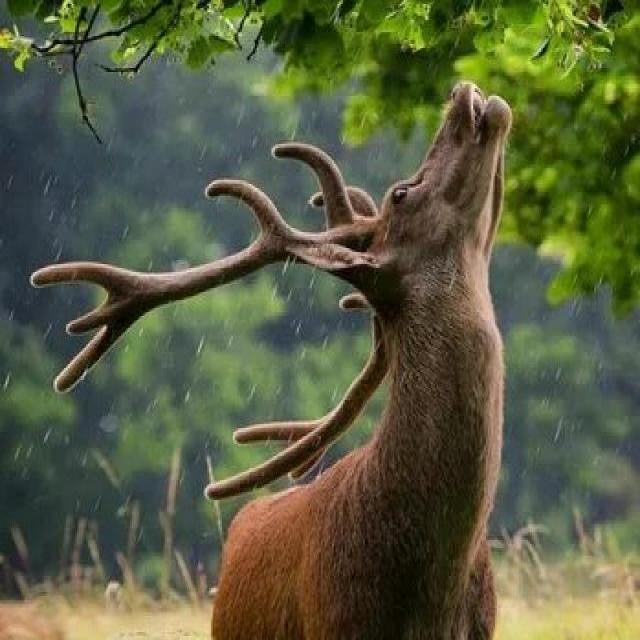deer: (68, 80, 556, 579)
